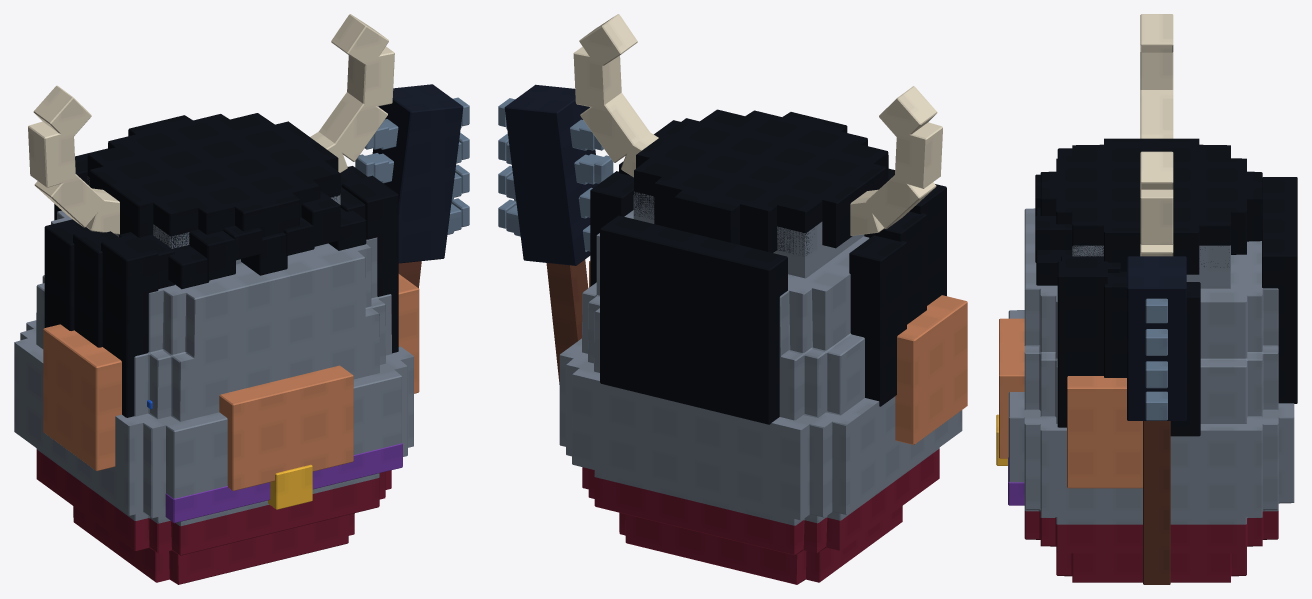
Rendered from Kaido_Egg.fbx.
The picture shows the model from 3 angles, left to right: view 1: azimuth 30°, elevation 25°; view 2: azimuth 150°, elevation 25°; view 3: azimuth 270°, elevation 25°; orthographic projection. The views are drawn at different scales.
Parts seen in each view (by area): view 1: Kaido_Egg; view 2: Kaido_Egg; view 3: Kaido_Egg.
Part boxes in pixels (x1,y1,x2,y2): Kaido_Egg: (14, 14, 469, 584); Kaido_Egg: (498, 14, 967, 584); Kaido_Egg: (996, 14, 1297, 584).
Bounding box in the file's own units: 578 × 607 × 366.
Materials: 11 (11 with a texture image).
